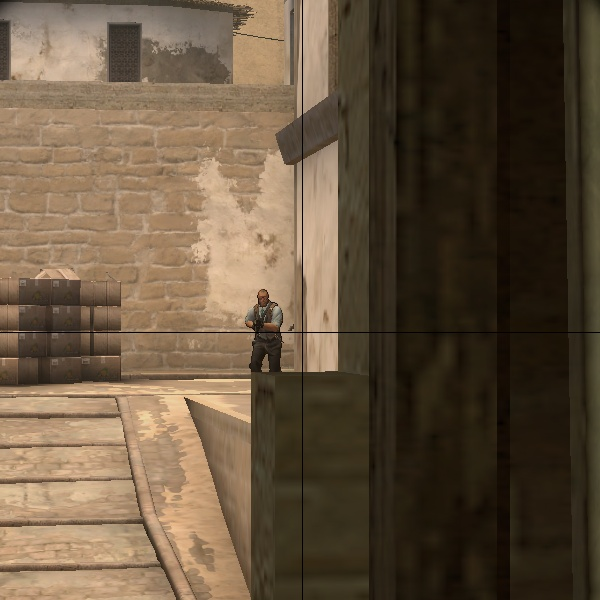t_body: (236, 287, 290, 375)
t_head: (252, 287, 274, 308)
